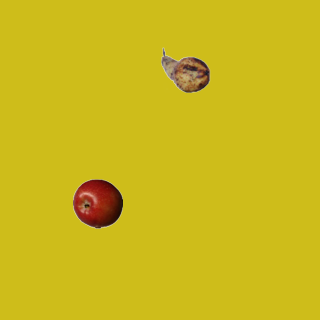Apple Braeburn: (72, 178, 122, 228)
Pear Abate: (160, 45, 210, 95)
